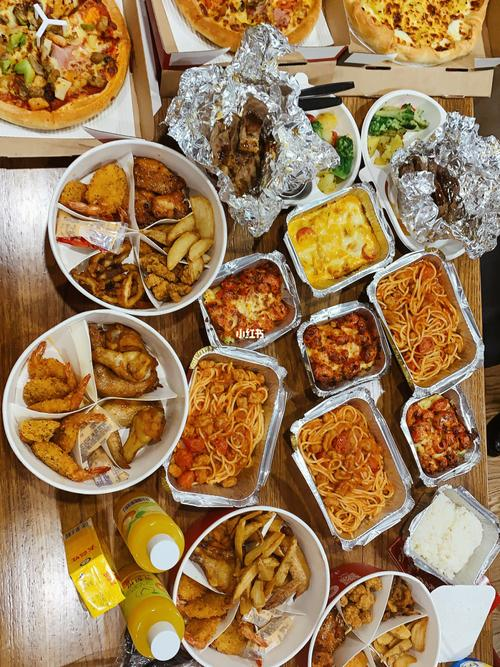food: (43, 124, 228, 315), (174, 45, 342, 216), (170, 494, 329, 656), (362, 249, 486, 453), (4, 309, 185, 423), (158, 340, 288, 497), (9, 380, 180, 485), (290, 390, 408, 539), (0, 0, 132, 127), (379, 123, 494, 240), (306, 564, 438, 659), (281, 180, 392, 286), (398, 483, 495, 581), (344, 0, 492, 61), (201, 256, 296, 346), (296, 302, 383, 390), (359, 85, 443, 174), (399, 384, 478, 474), (172, 0, 324, 46)
